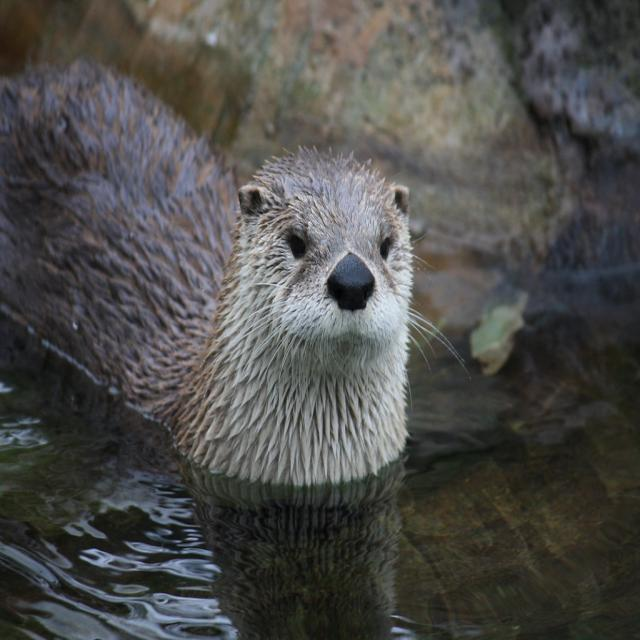otter: (171, 155, 415, 485)
